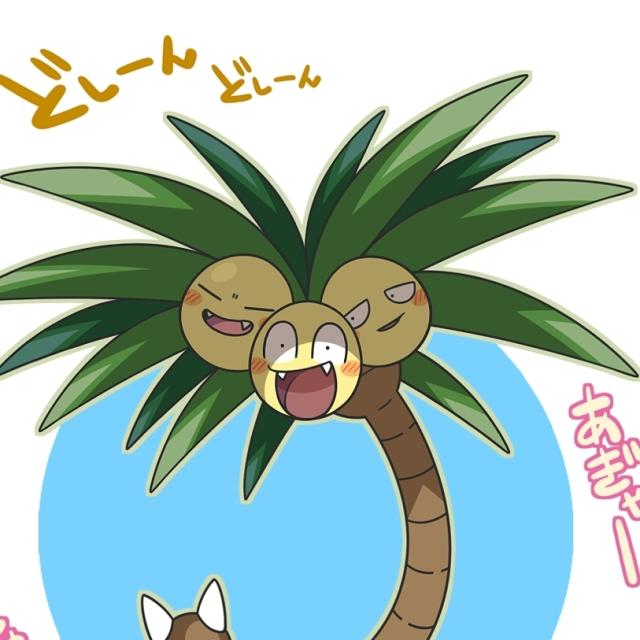Exeggutor: (113, 192, 513, 640)
